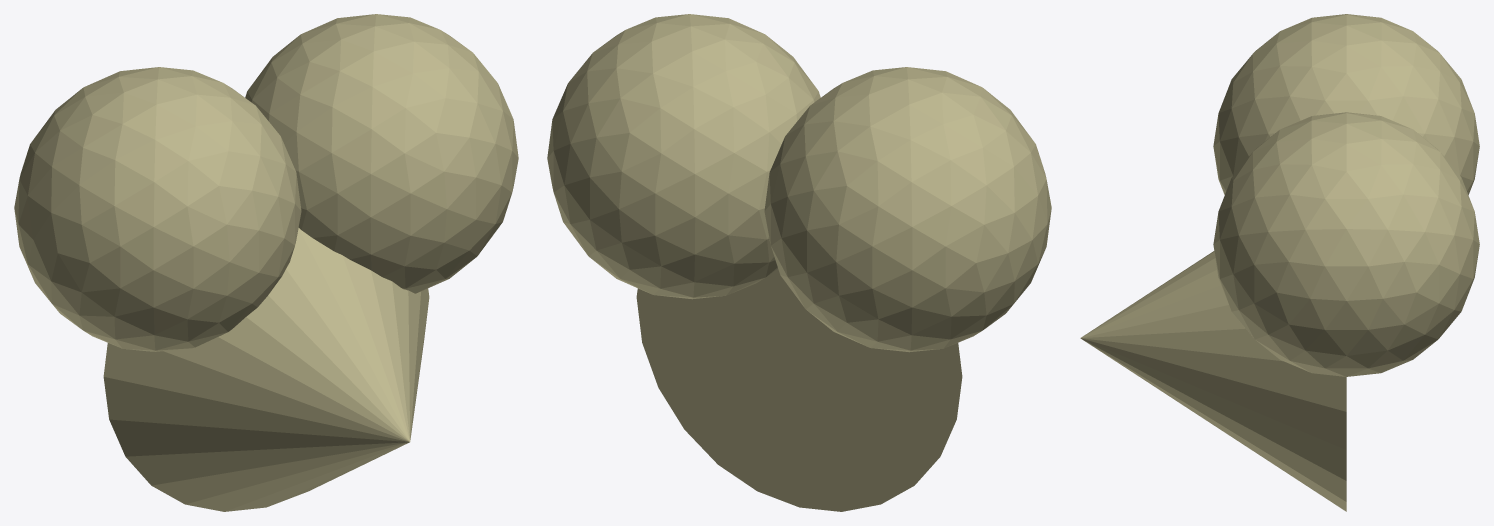
The model's file is love_002.glb.
3 views of the same model, side by side, from view 1: azimuth 30°, elevation 25°; view 2: azimuth 150°, elevation 25°; view 3: azimuth 270°, elevation 25° (orthographic). The views are drawn at different scales.
Visible parts, largest first — view 1: world; view 2: world; view 3: world.
Boxes of the visible parts, x1,y1,x2,y2 form: world: (14, 14, 518, 511); world: (547, 14, 1051, 511); world: (1080, 14, 1479, 511).
Size of the model in its own units: 2.06 by 1.92 by 1.65.
